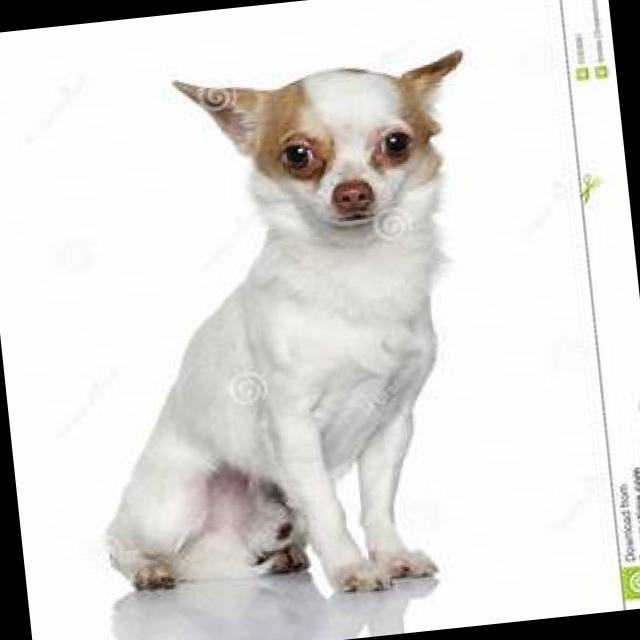dog: (53, 46, 517, 618)
